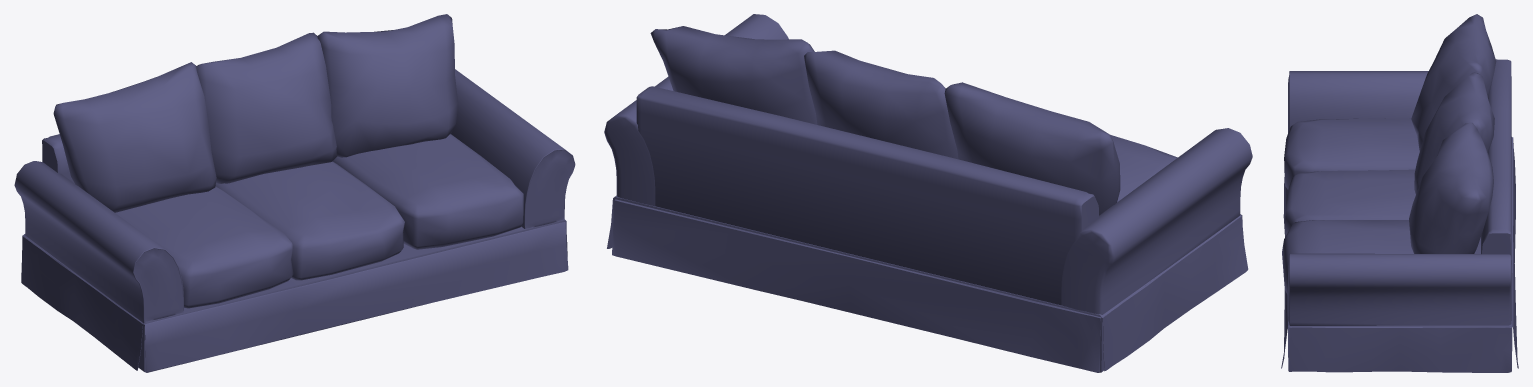
The model's file is sofa.dae.
3 renders of one model, left to right at view 1: azimuth 30°, elevation 25°; view 2: azimuth 150°, elevation 25°; view 3: azimuth 270°, elevation 25°, orthographic. The views are drawn at different scales.
Visible parts, largest first — view 1: HSM0012; view 2: HSM0012; view 3: HSM0012.
Part boxes in pixels (<box>): HSM0012: <box>14,14,575,372</box>; HSM0012: <box>604,14,1252,372</box>; HSM0012: <box>1281,14,1518,372</box>.
Bounding box in the file's own units: 2.11 × 1.06 × 0.9176.
